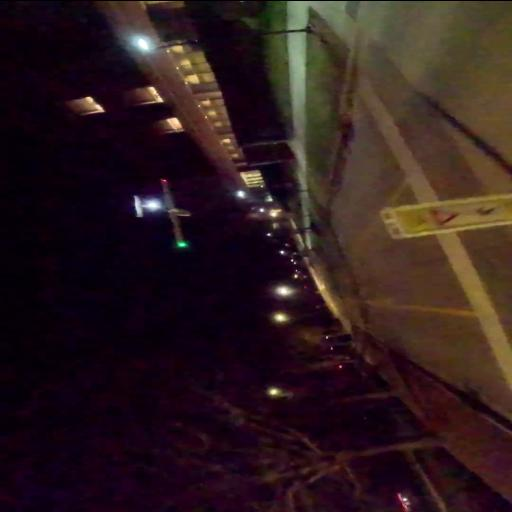uav: (128, 175, 198, 249)
